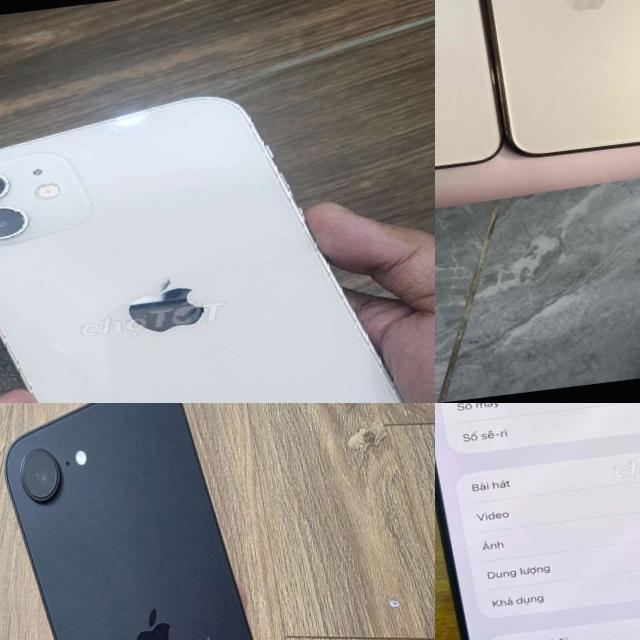gen_11: (473, 0, 640, 169)
gen_12_13: (0, 66, 435, 403)
gen_16: (4, 403, 253, 640)
gen_17: (435, 403, 640, 640)
